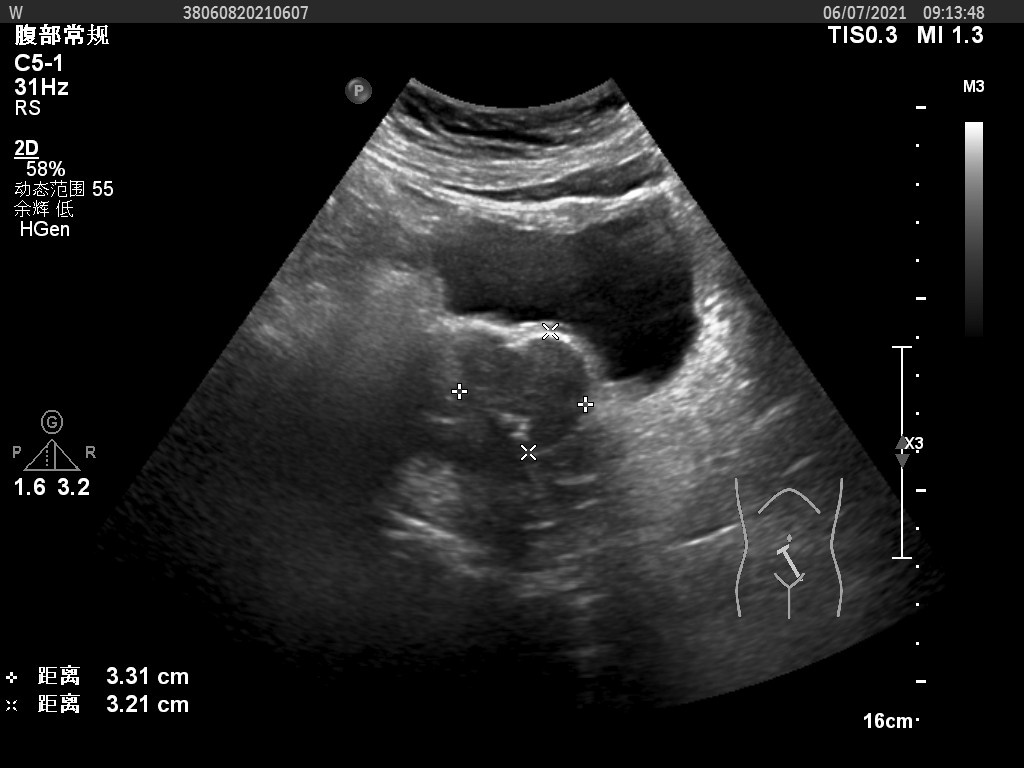肌瘤: (469, 347, 583, 448)
